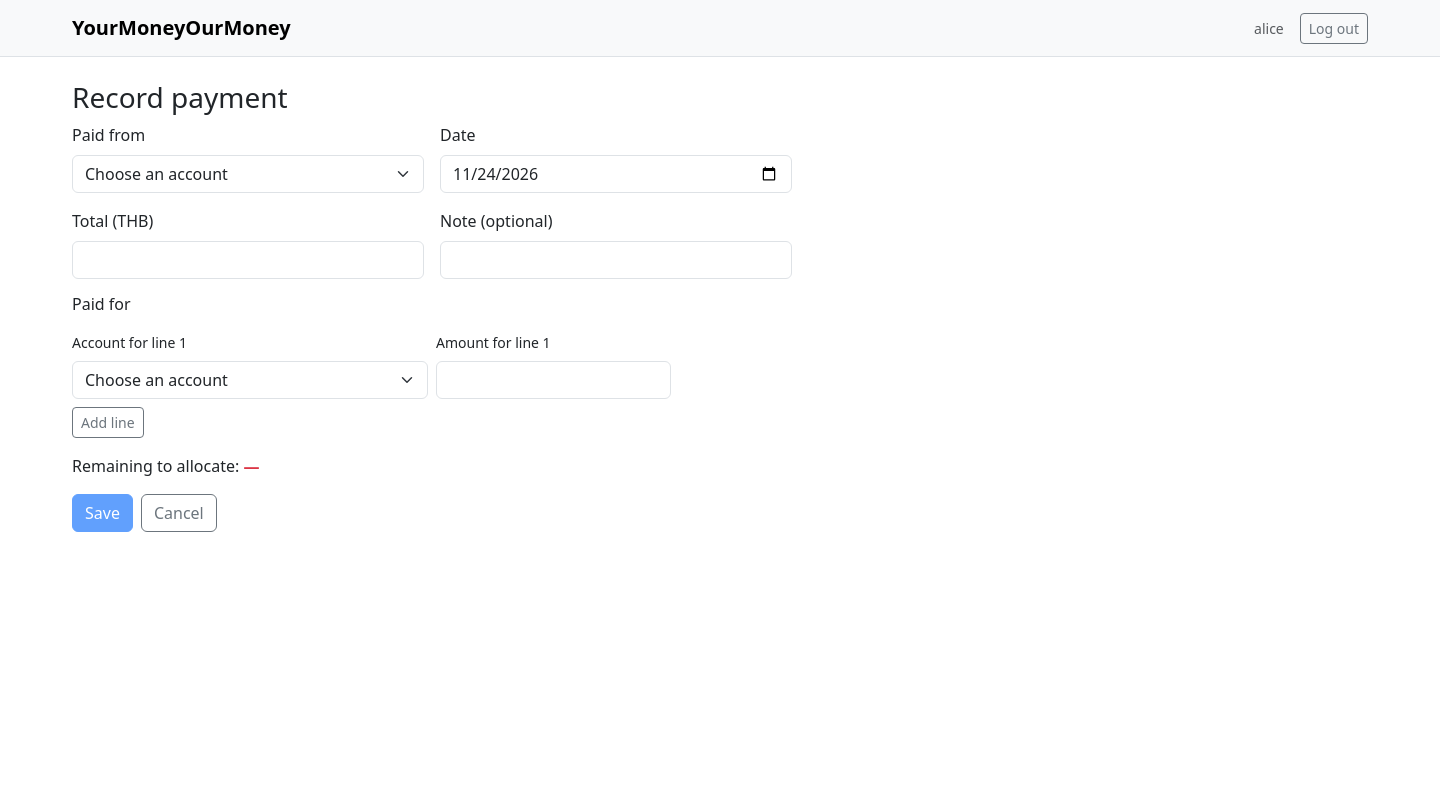
TransactionFormPage › T-TX-UI-01: removing a line updates the remaining amount, and the last line cannot be removed
Type "100" into the field labelled "Total (THB)".
click(248, 260); type("100")  # box [72,241,424,279]
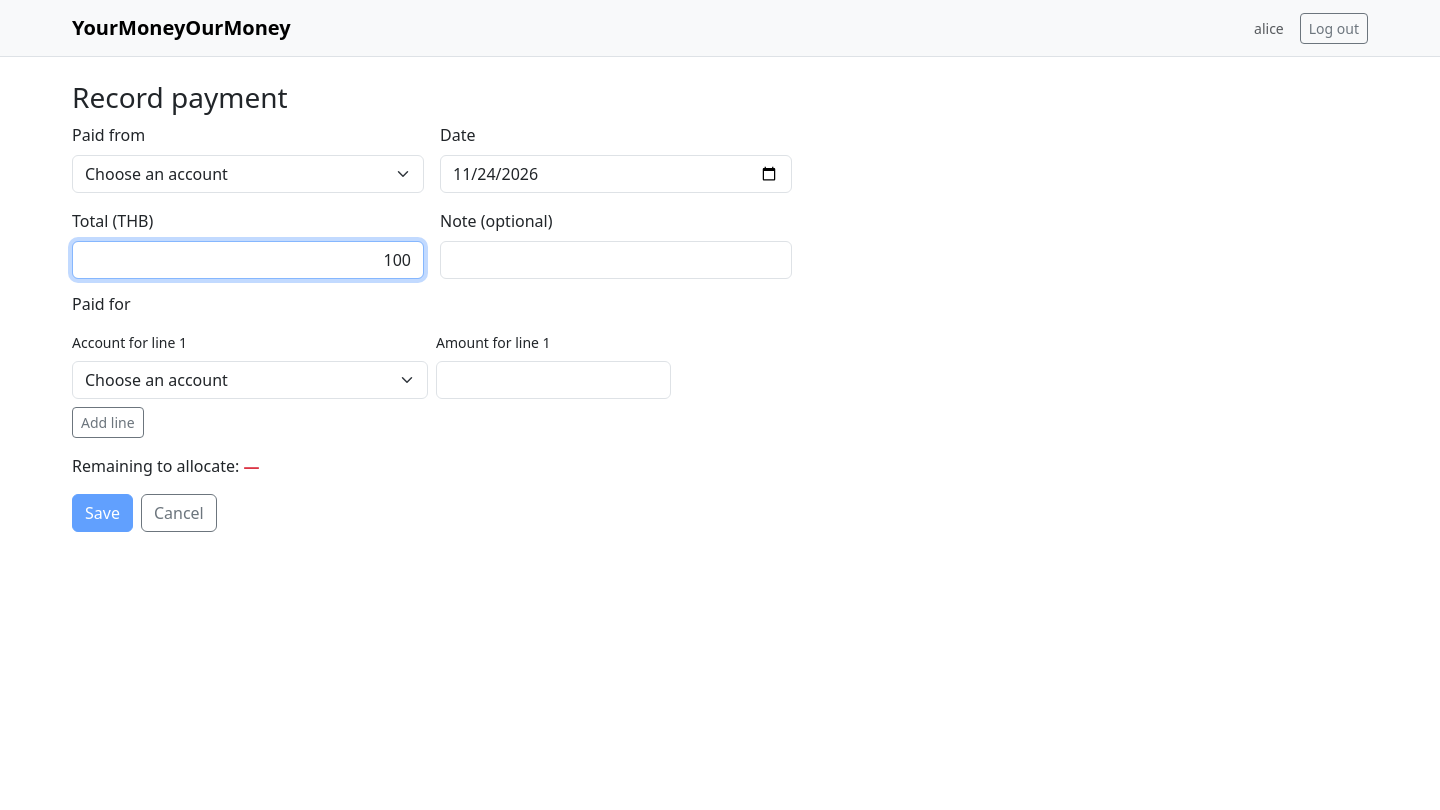
Type "60" into the field labelled "Amount for line 1".
click(553, 380); type("60")  # box [436,361,671,399]
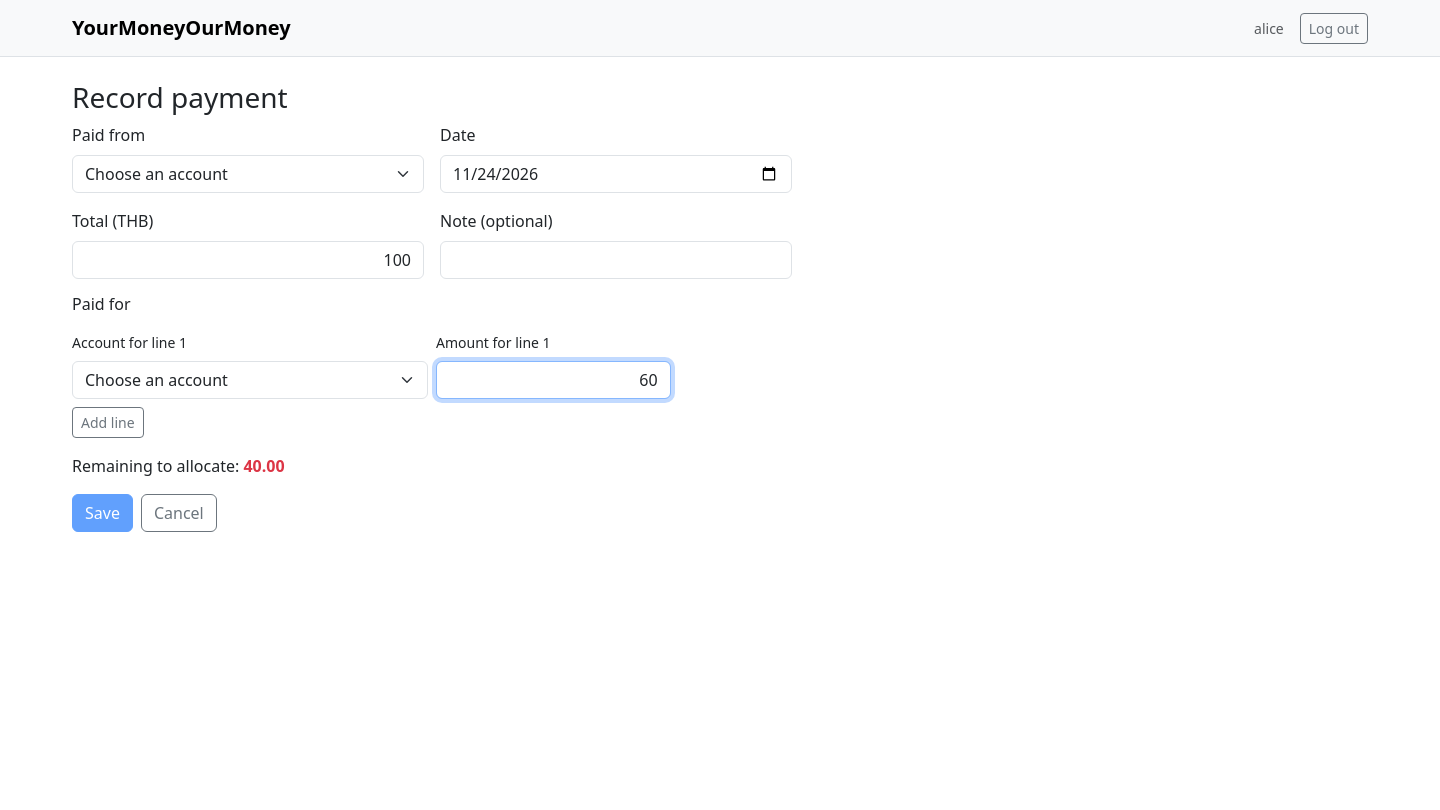
Click the button "Add line".
click(108, 422)  # box [72,407,144,438]
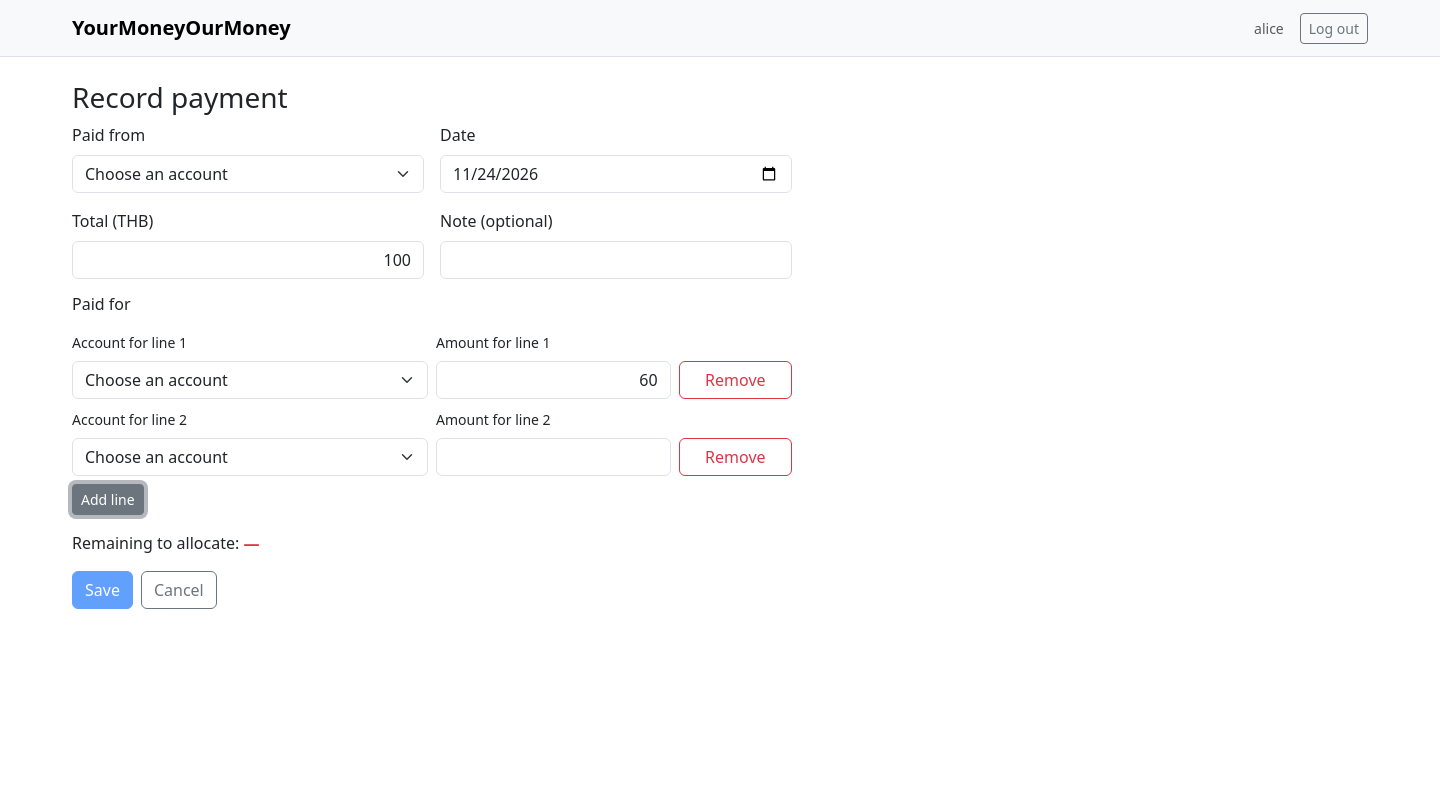
Type "40" into the field labelled "Amount for line 2".
click(553, 457); type("40")  # box [436,438,671,476]
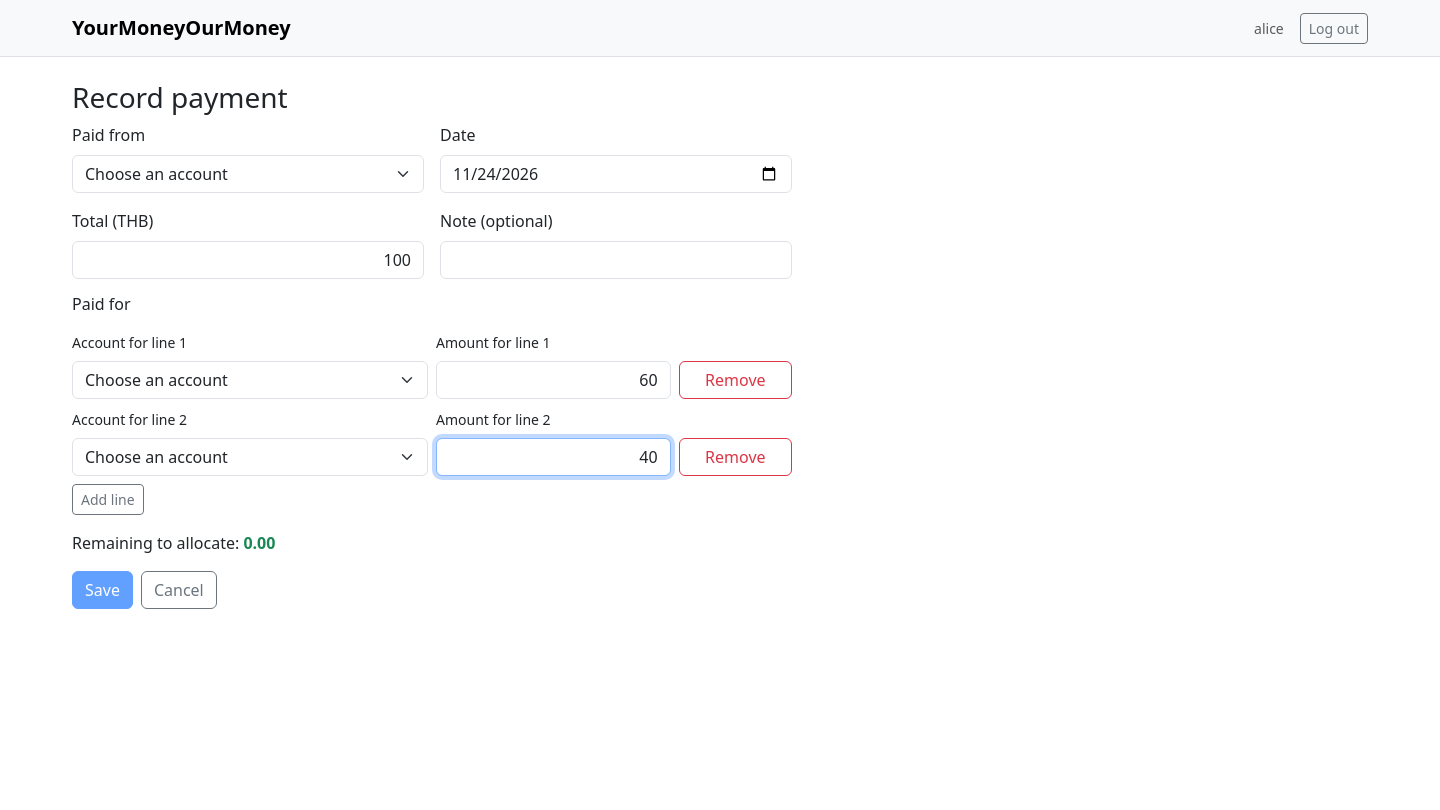
expect the text "Remaining to allocate: 0.00" is shown: met, box [72,532,275,554]
Click the button with aria-label "Remove line 2".
click(735, 457)  # box [679,438,792,476]
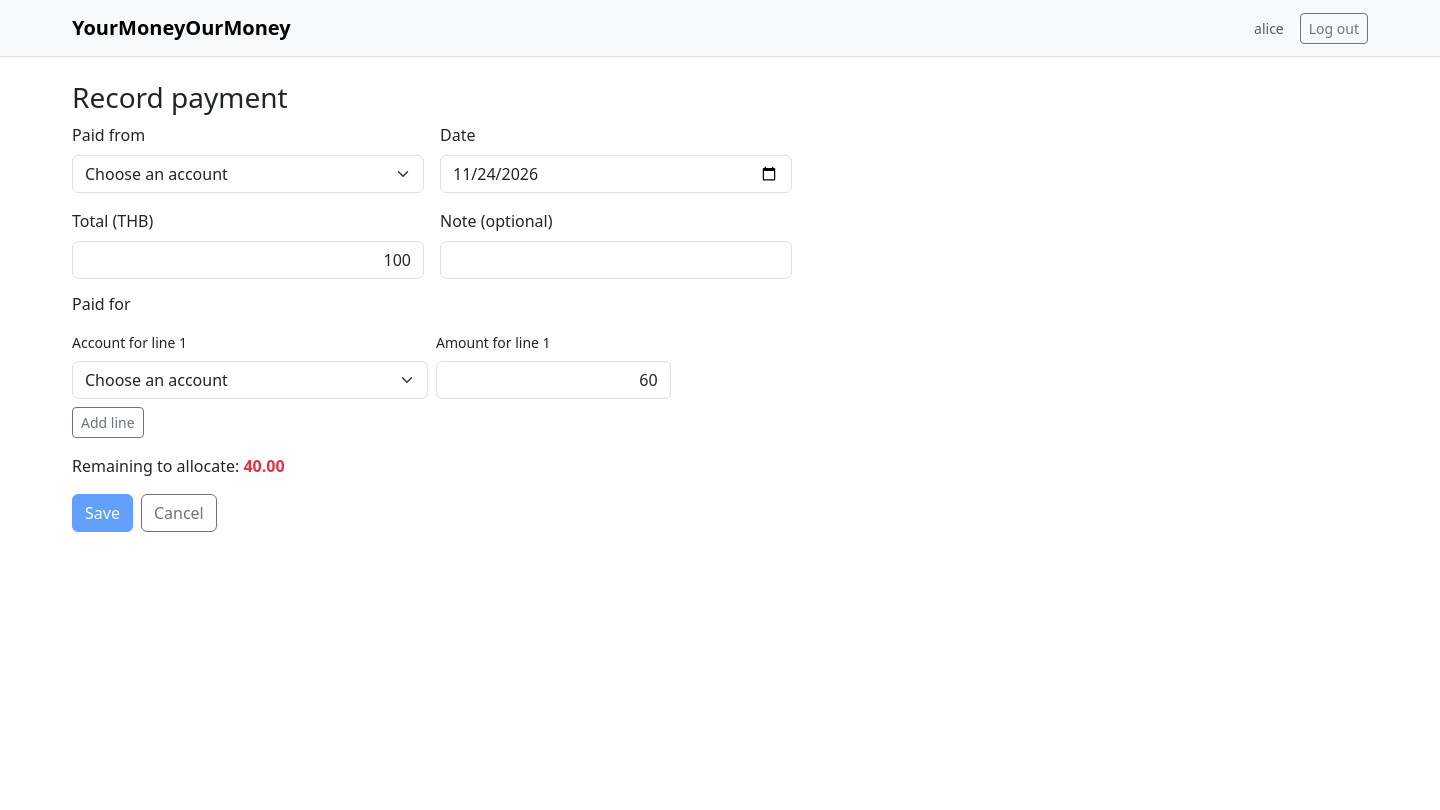
expect the text "Remaining to allocate: 40.00" is shown: met, box [72,455,285,477]
